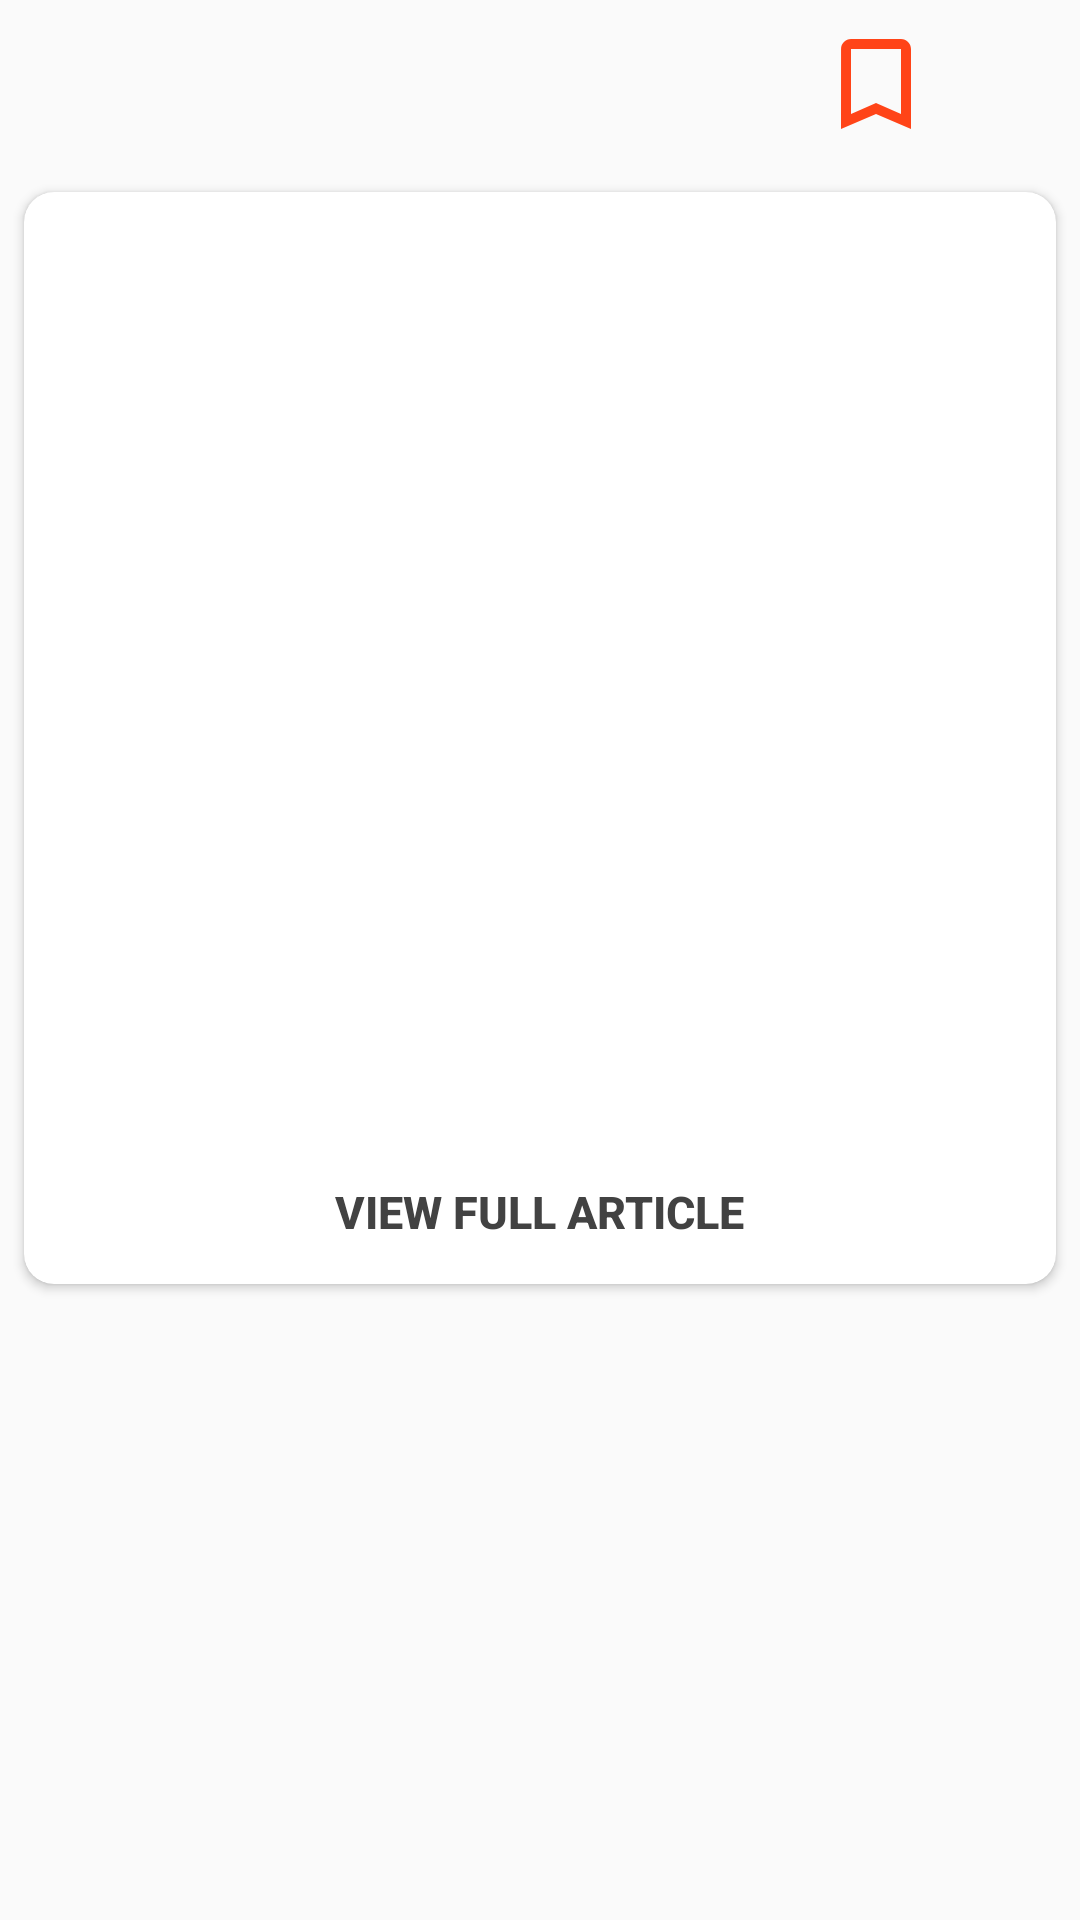

Icon click points for this 1080×1920 phone screenshot, format point (x, y):
bookmark border: point (876, 84)
